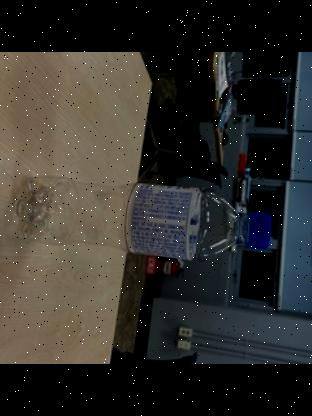Plastic Bottle: (0, 175, 280, 263)
